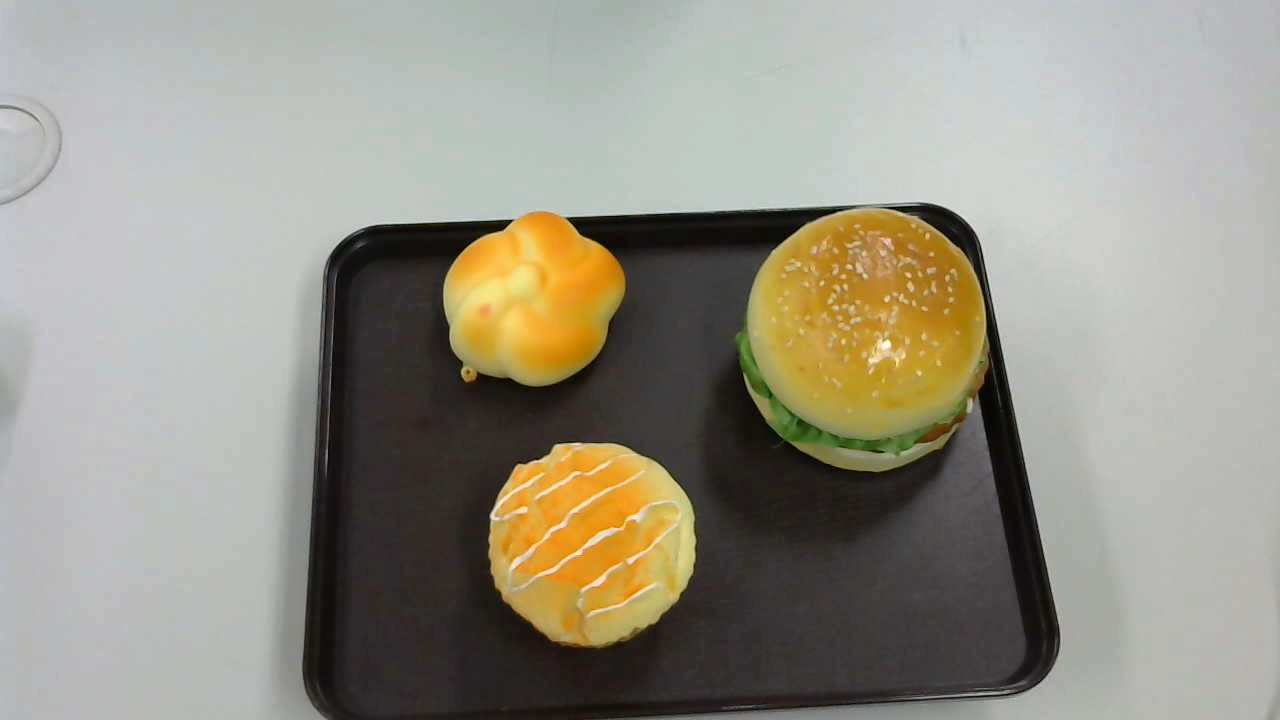cupcake: (487, 442, 695, 648)
hamburger: (735, 207, 990, 472)
twist bread: (442, 211, 625, 388)
